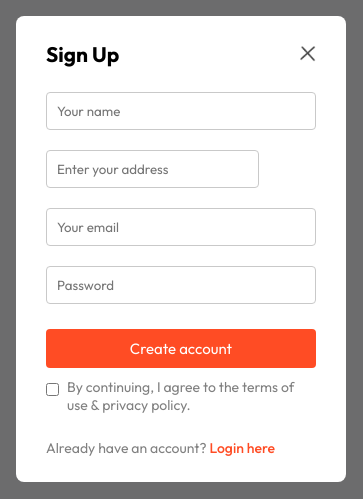
Test case: LoginPopup › should render login form initially
This screenshot has width=363, height=499.
Expected: the heading "Sign Up" is shown, [46,41,119,67]
Switch to login mode by clicking the "Login here" text
Step 1. Click the text "Login here" → (242, 448), box [210,439,275,457]
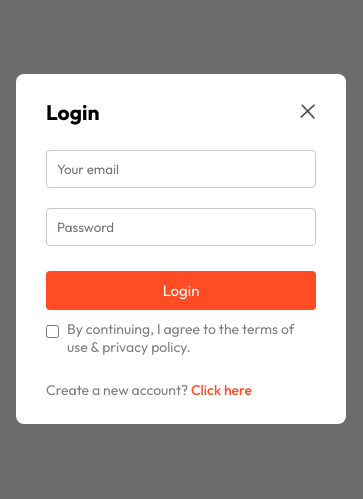
Expected: the heading "Login" is shown, [46,99,100,125]
